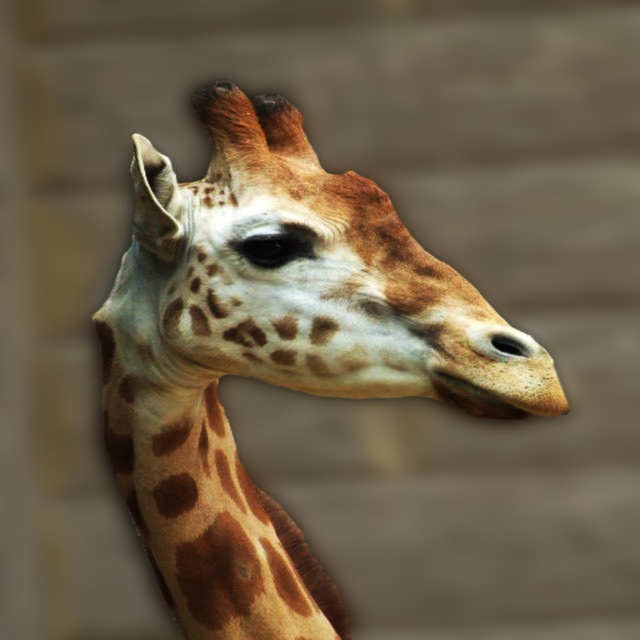Giraffe: (83, 84, 576, 637)
